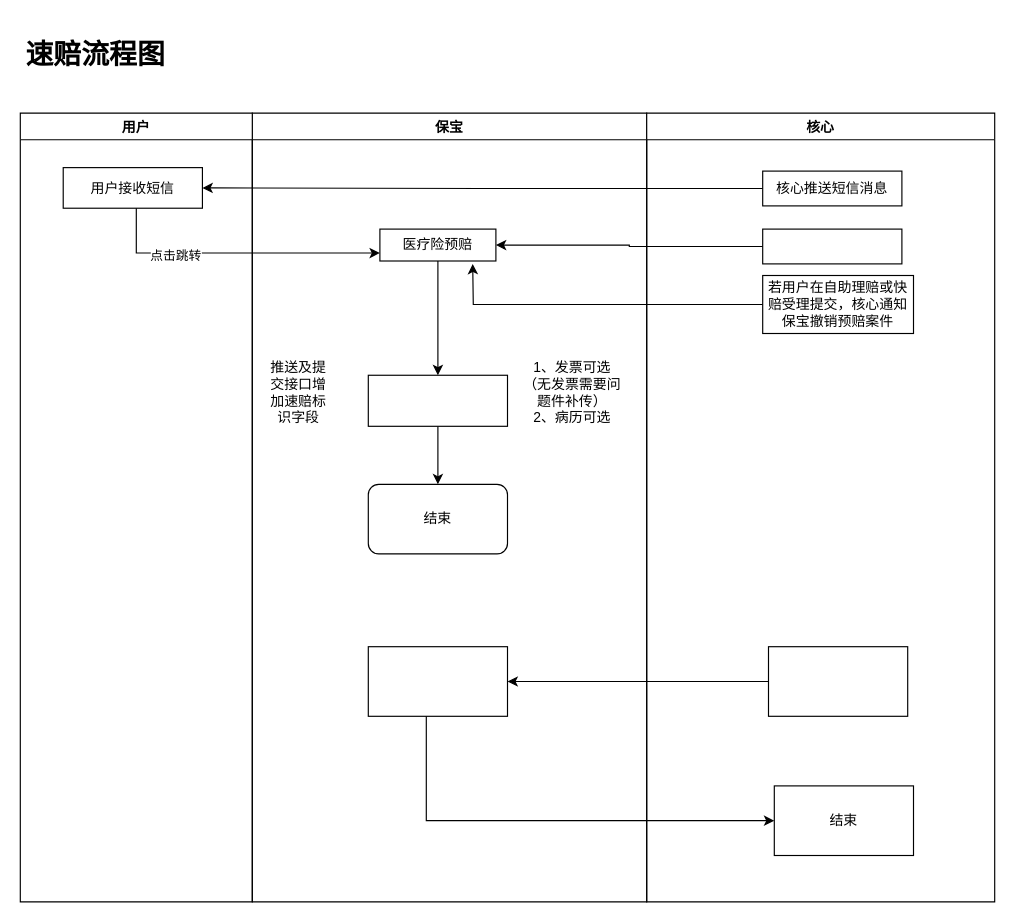
The diagram is 1015 pixels wide and 922 high, and some of its shapes have lost their labels. The shapes that lost their labels are listed below. From the top down, each one's centre as x and y in pixels, then its label:
pixel 832 246: 核心推送速赔案件
pixel 437 400: 预赔受理
pixel 437 681: 问题件
pixel 837 681: 核心根据是否缺少发票推送补件问题件
